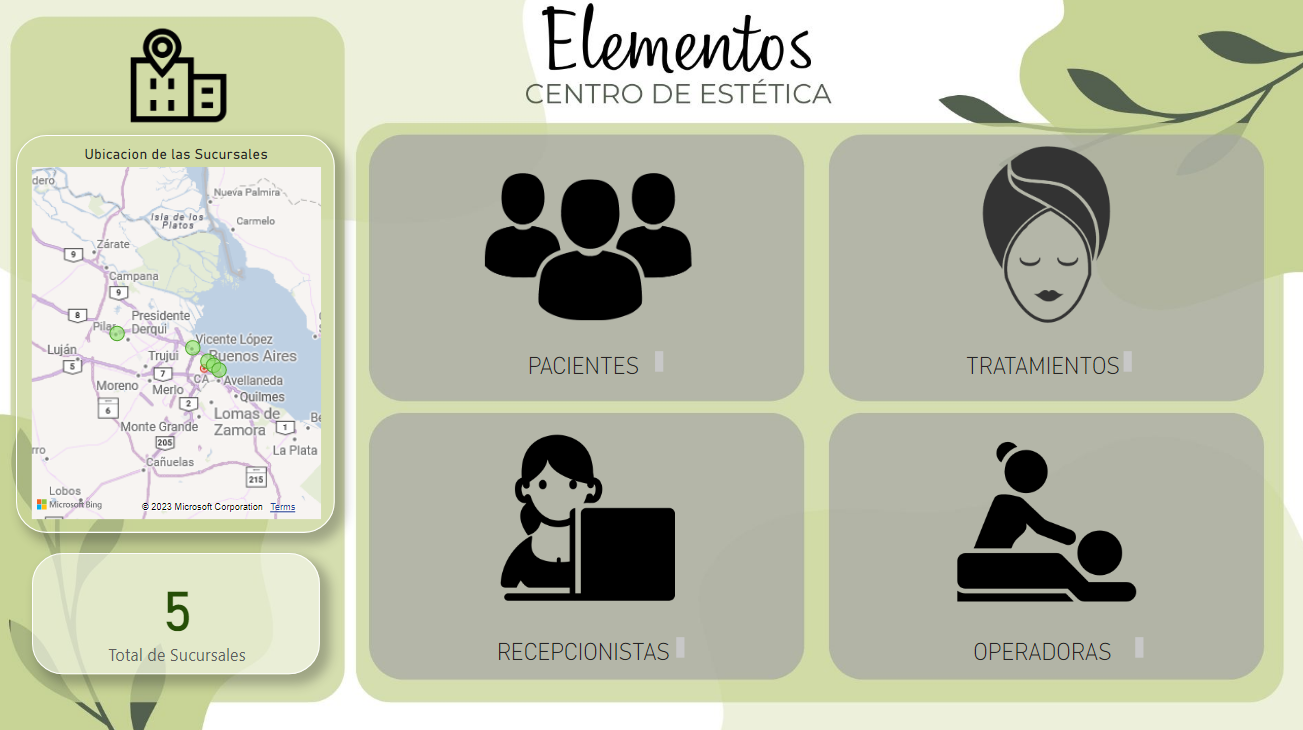

This screenshot's page, from the dashboard's own definition file:
{"tool":"powerbi","page":{"name":"PORTADA","canvas":[1280,720],"ordinal":0},"visuals":[{"type":"card","fields":{"Values":["Calculos.Total de Pacientes"]},"box":[40.9,544.7,280.1,117.7],"z":0},{"type":"image","box":[80.3,0,200.6,161.5],"z":1000},{"type":"textbox","box":[502.9,343.3,156.6,33.1],"z":2000},{"type":"image","box":[816,137.1,423.1,194.5],"z":3000},{"type":"textbox","box":[940.5,343.3,175.1,33.1],"z":4000},{"type":"image","box":[369.6,391,423.1,247.1],"z":5000},{"type":"textbox","box":[481.5,621.5,199.4,33.1],"z":6000},{"type":"image","box":[928.9,422.1,198.4,183.8],"z":7000},{"type":"textbox","box":[927.9,621.5,199.4,33.1],"z":8000},{"type":"image","box":[449.4,170.2,263.6,152.7],"z":9000},{"type":"map","title":"Ubicacion de las Sucursales","fields":{"X":["sucursales.longitud"],"Y":["sucursales.latitud"]},"box":[25.7,137.9,309.7,386.9],"z":10000},{"type":"image","box":[665.1,295.4,264.2,161.8],"z":11000},{"type":"textbox","box":[698.3,457.1,198.9,32.2],"z":11001}]}

Visuals, with their boxes in screenshot pixels (x1, y1, x2, y2), scaled from the page's 1280x720 canvas onto the 1303x730 screenshot:
card - Calculos.Total de Pacientes: bbox=(42, 552, 327, 672)
image: bbox=(82, 0, 286, 164)
textbox: bbox=(512, 348, 671, 382)
image: bbox=(831, 139, 1261, 336)
textbox: bbox=(957, 348, 1136, 382)
image: bbox=(376, 396, 807, 647)
textbox: bbox=(490, 630, 693, 664)
image: bbox=(946, 428, 1148, 614)
textbox: bbox=(945, 630, 1148, 664)
image: bbox=(457, 173, 726, 327)
"Ubicacion de las Sucursales" map: bbox=(26, 140, 341, 532)
image: bbox=(677, 300, 946, 464)
textbox: bbox=(711, 463, 913, 496)
